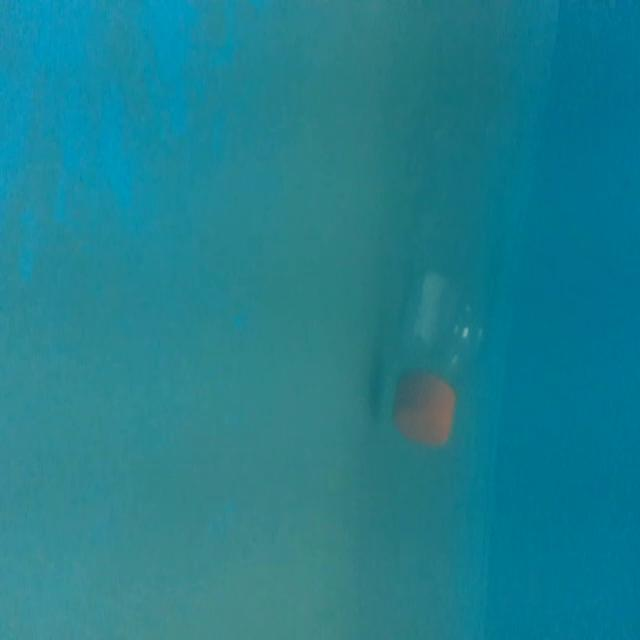plastic bottle: (388, 97, 514, 456)
